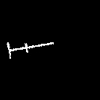double_crochet: (7, 43, 53, 57)
